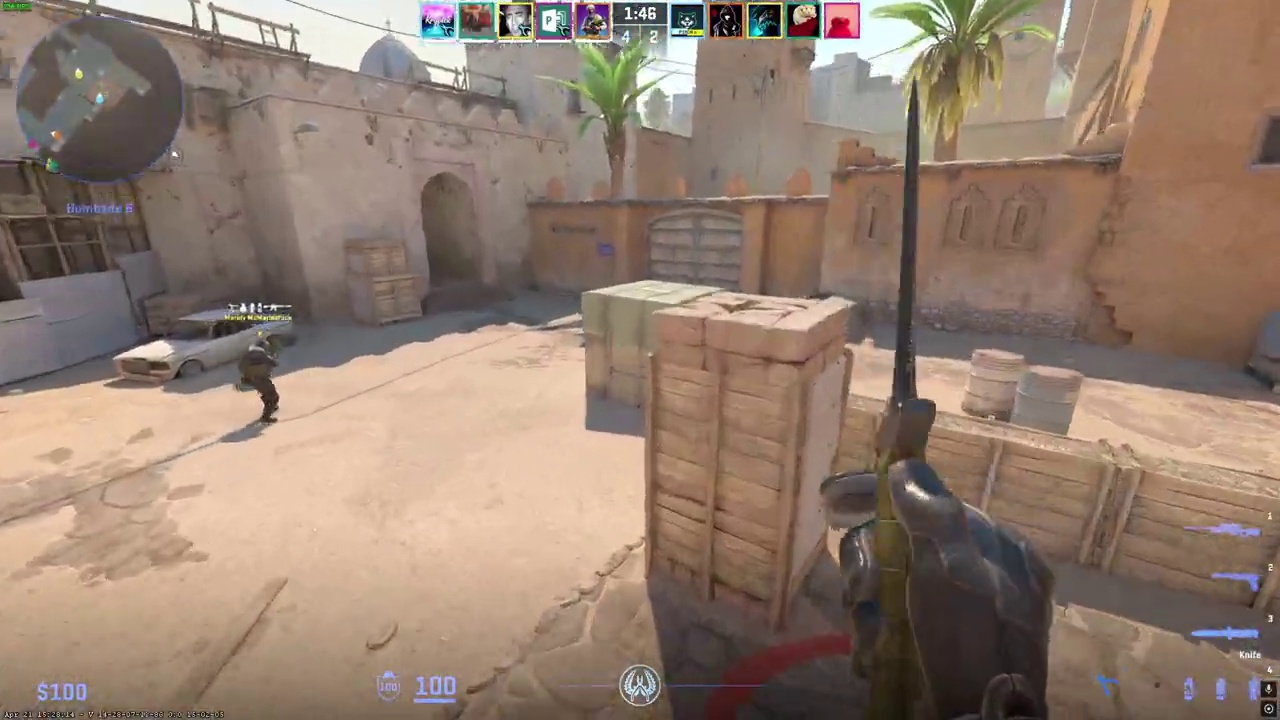CT: (239, 338, 283, 425)
